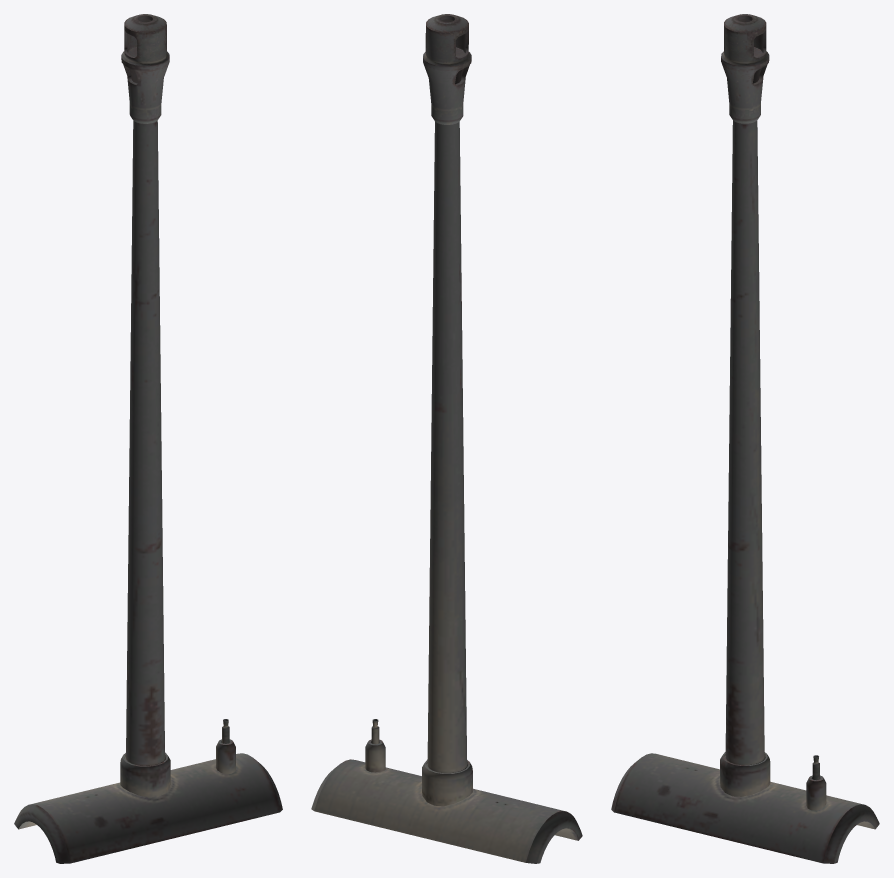
File: Gun_09.glb
The picture shows the model from 3 angles, left to right: view 1: azimuth 30°, elevation 25°; view 2: azimuth 150°, elevation 25°; view 3: azimuth 330°, elevation 25°; orthographic projection.
Visible parts, largest first — view 1: set_0_group_0; view 2: set_0_group_0; view 3: set_0_group_0.
Boxes of the visible parts, left/top/right/bottom form: set_0_group_0: left=14, top=14, right=282, bottom=863; set_0_group_0: left=311, top=14, right=582, bottom=863; set_0_group_0: left=611, top=14, right=879, bottom=863.
Size of the model in its own units: 1.26 by 4.32 by 0.5237.
1 material, 1 textured.
